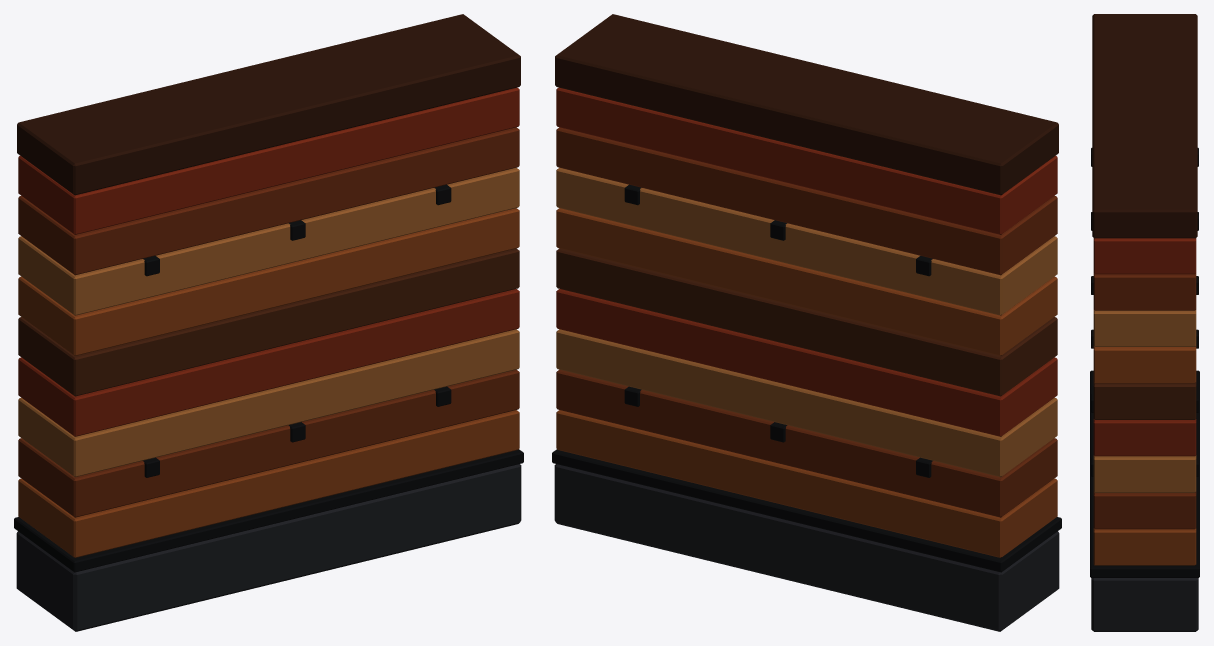
The model's file is mod_rammed_earth_wall_2x2m.glb.
3 renders of one model, left to right at view 1: azimuth 30°, elevation 25°; view 2: azimuth 150°, elevation 25°; view 3: azimuth 270°, elevation 25°, orthographic. The views are drawn at different scales.
Visible parts, largest first — view 1: Mod_Rammed_Earth_Wall_2x2m; view 2: Mod_Rammed_Earth_Wall_2x2m; view 3: Mod_Rammed_Earth_Wall_2x2m.
Part boxes in pixels (x1,y1,x2,y2): Mod_Rammed_Earth_Wall_2x2m: (14, 14, 523, 631); Mod_Rammed_Earth_Wall_2x2m: (552, 14, 1061, 631); Mod_Rammed_Earth_Wall_2x2m: (1090, 14, 1199, 631).
Bounding box in the file's own units: 2.01 × 2 × 0.47.
